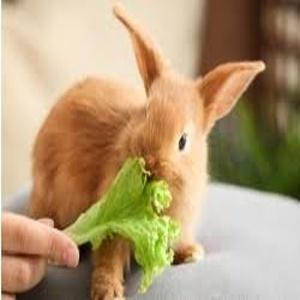rabbit: (32, 5, 263, 262), (92, 237, 130, 299)
